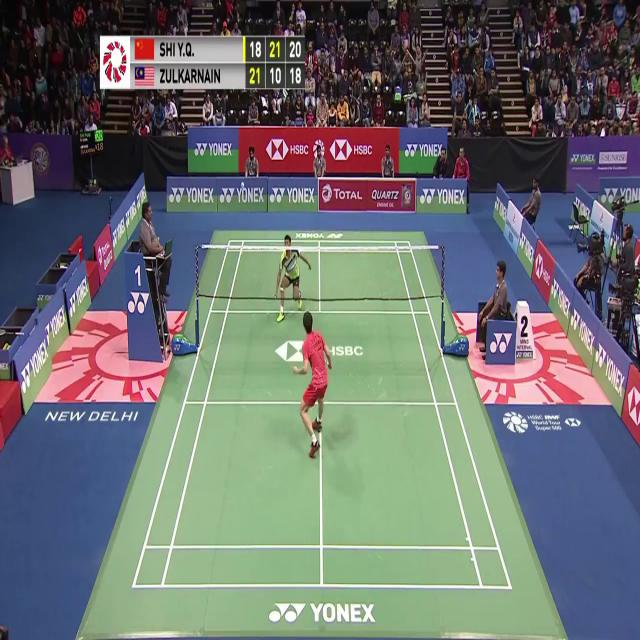Shuttlecock: (238, 179, 245, 191)
